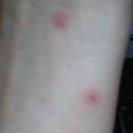Fleas: (82, 87, 103, 107), (51, 9, 69, 30)
